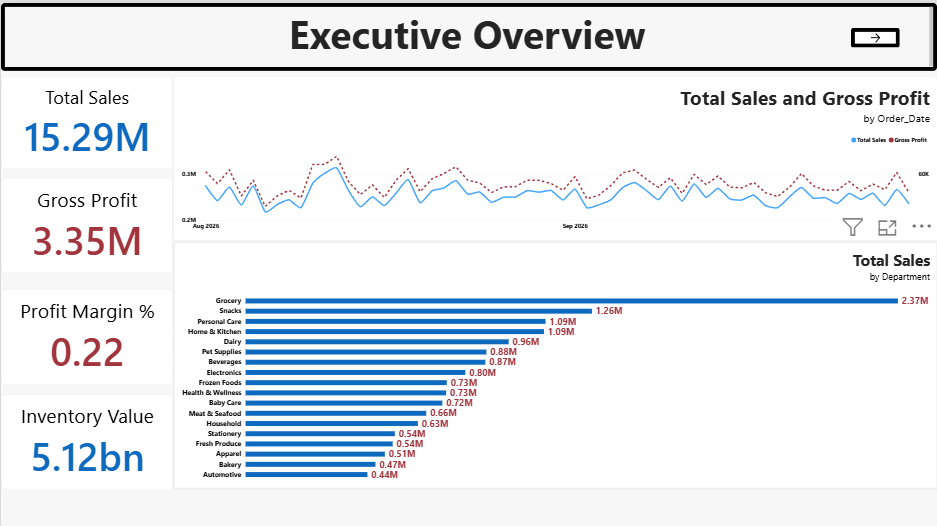

The dashboard page shown, as its layout file describes it:
{"tool":"powerbi","page":{"name":"Page 1","canvas":[1920,1080],"ordinal":0},"visuals":[{"type":"textbox","box":[0,0,1920.1,139.3],"z":0},{"type":"cardVisual","fields":{"Data":["Sales_Orders.Total Sales"]},"box":[0,152,352.9,188.2],"z":1},{"type":"cardVisual","fields":{"Data":["Sales_Orders.Gross Profit"]},"box":[0,358.3,352.9,195.4],"z":2},{"type":"cardVisual","fields":{"Data":["Sales_Orders.Profit Margin %"]},"box":[0,588.1,353,195],"z":3},{"type":"cardVisual","fields":{"Data":["Inventory.Inventory Value"]},"box":[0,801.7,353,195],"z":4},{"type":"lineChart","fields":{"Category":["Sales_Orders.Order_Date"],"Y":["Sales_Orders.Total Sales"],"Y2":["Sales_Orders.Gross Profit"]},"box":[352.9,152,1567.2,336.6],"z":5},{"type":"clusteredBarChart","fields":{"Category":["Products.Department"],"Y":["Sales_Orders.Total Sales"]},"box":[352.9,488.6,1567.2,508.5],"z":6},{"type":"actionButton","box":[1744.5,50.7,100,40],"z":7}]}

Visuals, with their boxes in screenshot pixels (x1, y1, x2, y2), scaled from the page's 1920x1080 canvas onto the 937x526 screenshot:
textbox: left=0, top=0, right=936, bottom=68
cardVisual - Sales_Orders.Total Sales: left=0, top=74, right=172, bottom=166
cardVisual - Sales_Orders.Gross Profit: left=0, top=175, right=172, bottom=270
cardVisual - Sales_Orders.Profit Margin %: left=0, top=286, right=172, bottom=381
cardVisual - Inventory.Inventory Value: left=0, top=390, right=172, bottom=485
lineChart - Sales_Orders.Order_Date x Sales_Orders.Total Sales: left=172, top=74, right=936, bottom=238
clusteredBarChart - Products.Department x Sales_Orders.Total Sales: left=172, top=238, right=936, bottom=486
actionButton: left=851, top=25, right=900, bottom=44
